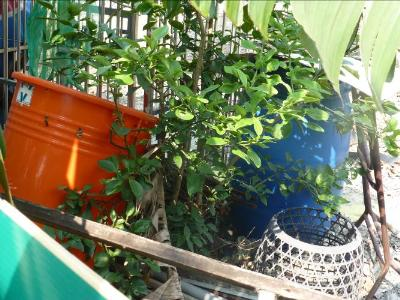bucket: (2, 72, 161, 272)
